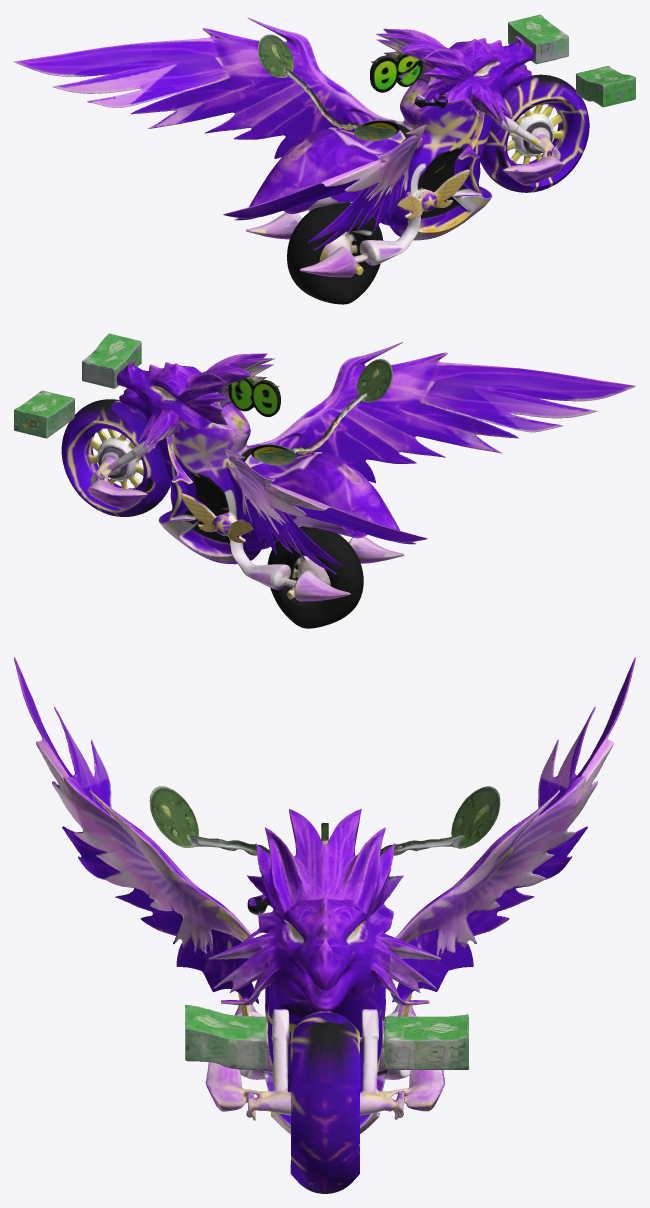
Rendered from neon-dragon-rider.glb.
The picture shows the model from 3 angles, top to bottom: view 1: azimuth 30°, elevation 25°; view 2: azimuth 150°, elevation 25°; view 3: azimuth 270°, elevation 25°; orthographic projection. The views are drawn at different scales.
Size of the model in its own units: 1.9 by 0.931 by 1.46.
Materials: 1 (1 with a texture image).
